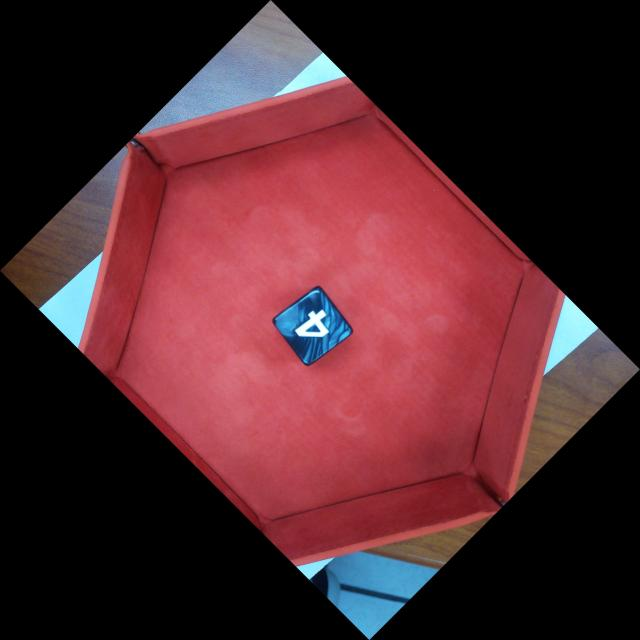dice: (271, 285, 354, 367)
